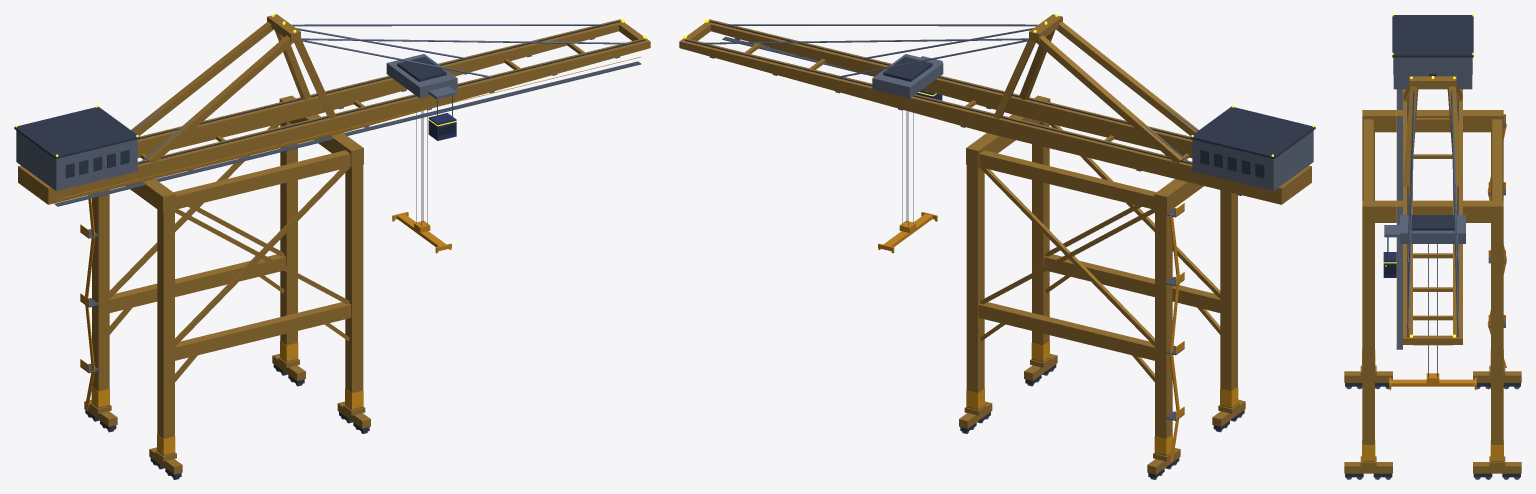
Rendered from port_sts_crane.glb.
3 views of the same model, side by side, from view 1: azimuth 30°, elevation 25°; view 2: azimuth 150°, elevation 25°; view 3: azimuth 270°, elevation 25° (orthographic).
Parts seen in each view (by area): view 1: frame, running_gear, machinery_house, steelwork, catwalk, spreader, hazard; view 2: frame, running_gear, machinery_house, steelwork, spreader, hazard, catwalk; view 3: frame, running_gear, machinery_house, steelwork, catwalk, spreader, hazard, cabin, hoist_rope.
Part boxes in pixels (x1,y1,x2,y2): frame: (18,14,650,474); running_gear: (14,21,645,478); machinery_house: (16,38,620,195); steelwork: (87,24,629,479); catwalk: (54,61,640,373); spreader: (57,57,640,410); hazard: (91,220,451,454); frame: (679,14,1311,474); running_gear: (684,21,1315,478); machinery_house: (709,38,1313,195); steelwork: (700,24,1242,479); spreader: (878,203,1184,462); hazard: (878,220,1238,454); catwalk: (722,36,1184,420); frame: (1344,76,1521,473); running_gear: (1345,15,1520,477); machinery_house: (1384,57,1472,243); steelwork: (1346,91,1519,479); catwalk: (1396,89,1505,349); spreader: (1389,89,1506,388); hazard: (1362,349,1503,460); cabin: (1383,252,1396,277); hoist_rope: (1428,244,1437,377).
Size of the model in its own units: 96 by 59.35 by 24.8.
